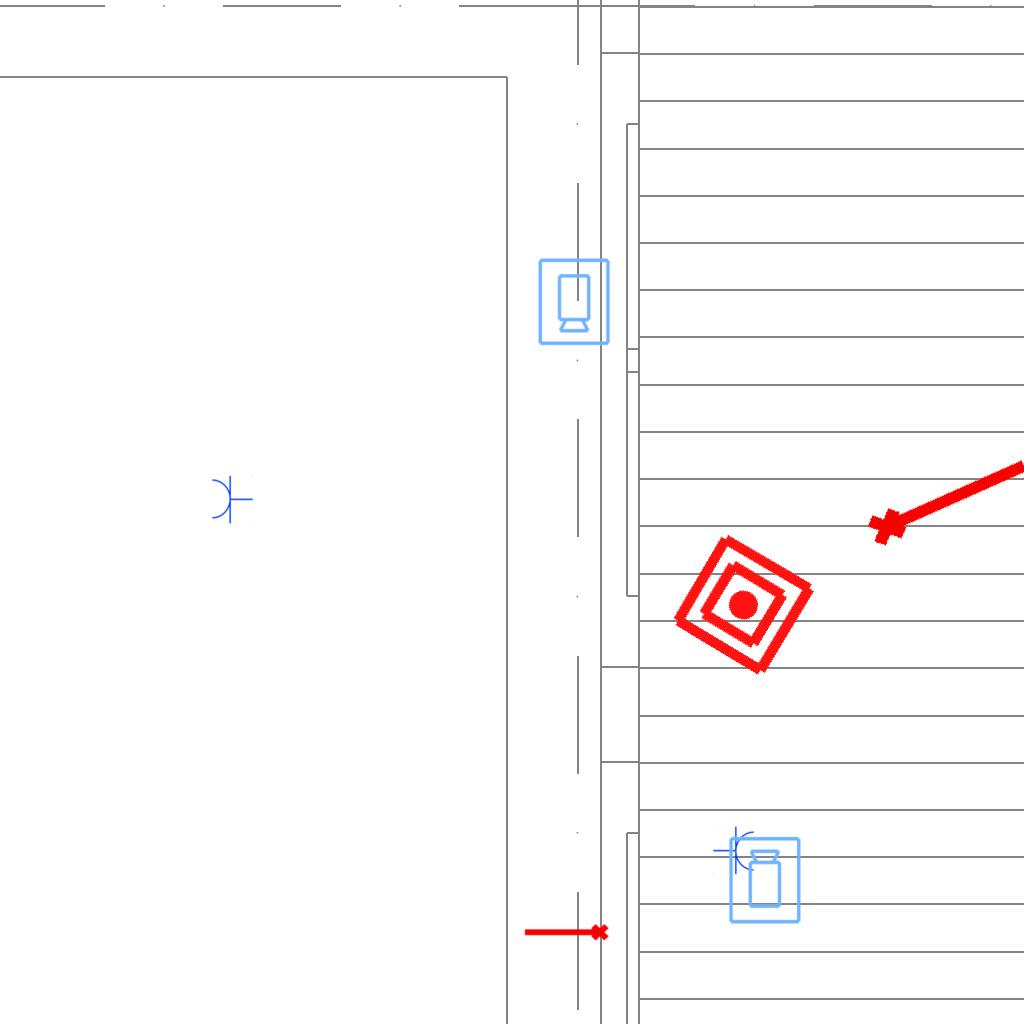ASR_Ansaugoeffnung: (858, 440, 1024, 554), (522, 922, 610, 945)
KFO_Kamera_mit_Festobjektiv: (535, 256, 612, 347), (727, 835, 804, 926)
NAM-Nichtautomatischer_Melder: (665, 526, 822, 683)
Schukosteckdose_einfach: (210, 474, 253, 524), (713, 826, 756, 876)
